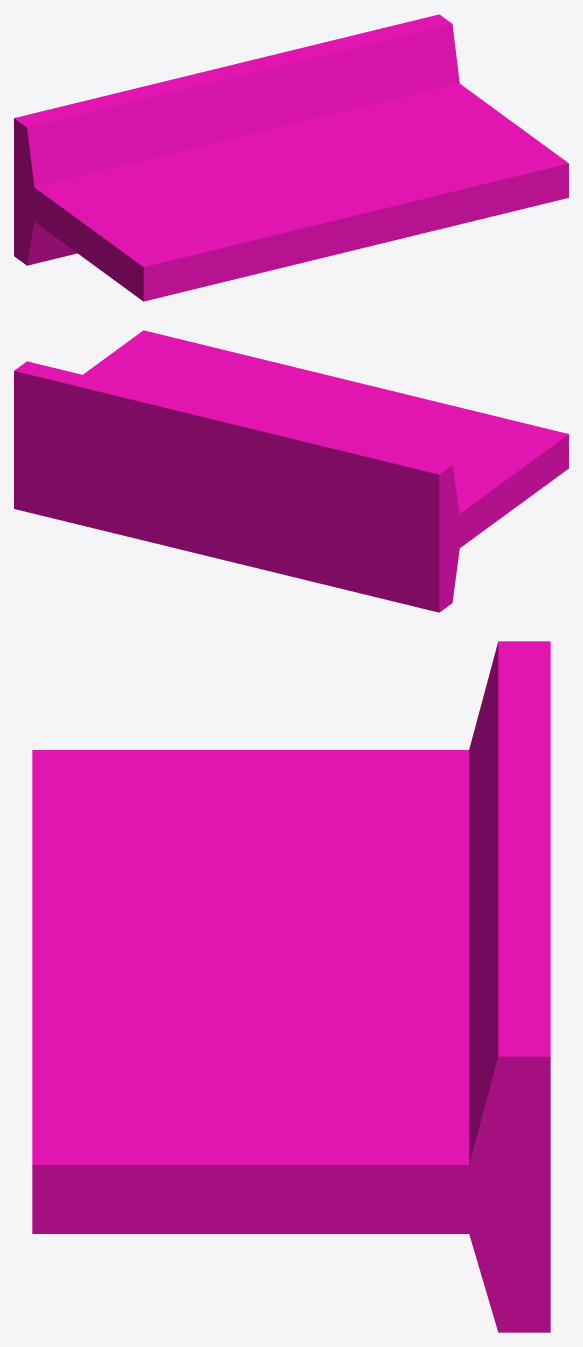
Rendered from study_shelf_1_meshCollider.fbx.
3 renders of one model, top to bottom at view 1: azimuth 30°, elevation 25°; view 2: azimuth 150°, elevation 25°; view 3: azimuth 270°, elevation 25°, orthographic. The views are drawn at different scales.
Parts seen in each view (by area): view 1: study_shelf_1_meshCollider; view 2: study_shelf_1_meshCollider; view 3: study_shelf_1_meshCollider.
Part boxes in pixels (x1,y1,x2,y2): study_shelf_1_meshCollider: (14, 14, 568, 301); study_shelf_1_meshCollider: (14, 330, 568, 612); study_shelf_1_meshCollider: (32, 641, 550, 1332).
Bounding box in the file's own units: 89.76 × 27.83 × 47.35.
